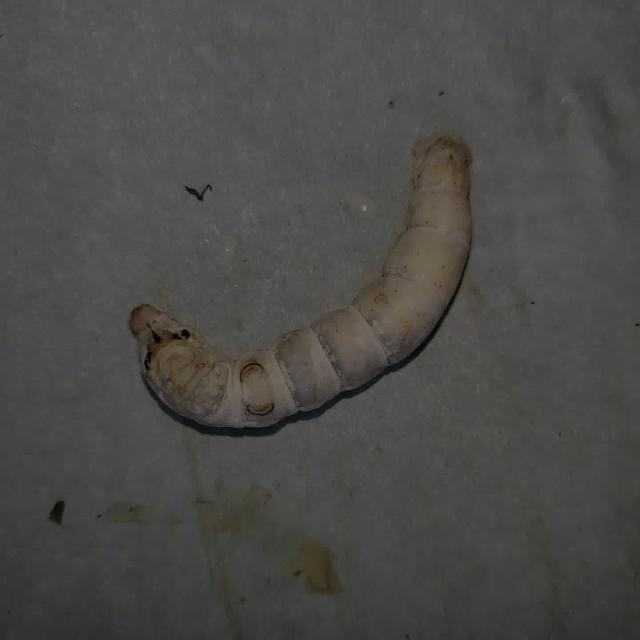Grasserie: (118, 131, 482, 440)
